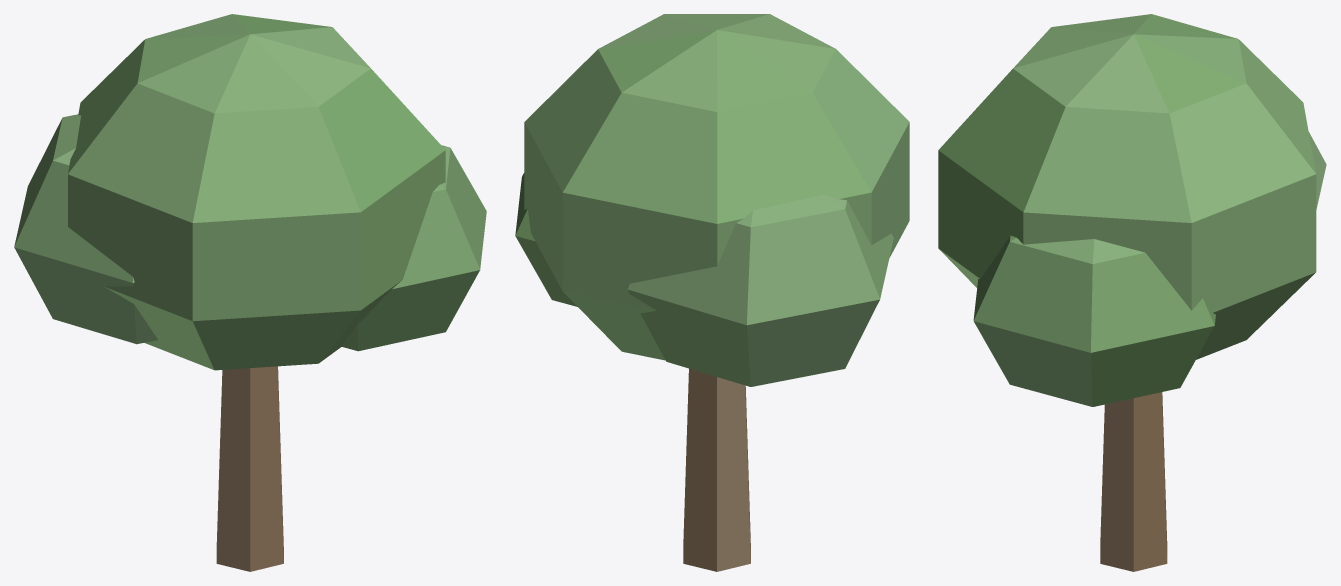
The model's file is oak.glb.
3 views of the same model, side by side, from view 1: azimuth 30°, elevation 25°; view 2: azimuth 150°, elevation 25°; view 3: azimuth 270°, elevation 25° (orthographic).
Parts seen in each view (by area): view 1: oak2; view 2: oak2; view 3: oak2.
Boxes of the visible parts, bbox=[...] form: oak2: bbox=[14, 14, 486, 571]; oak2: bbox=[515, 14, 909, 571]; oak2: bbox=[938, 14, 1326, 571].
Bounding box in the file's own units: 3.94 × 4.74 × 3.2.
